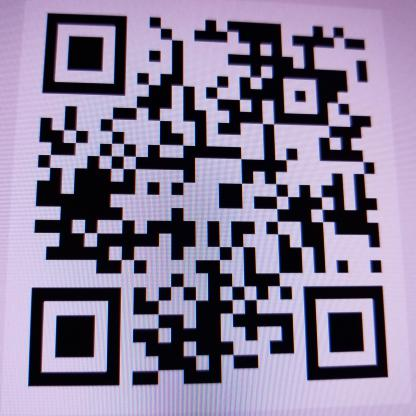qr: (27, 9, 393, 387)
